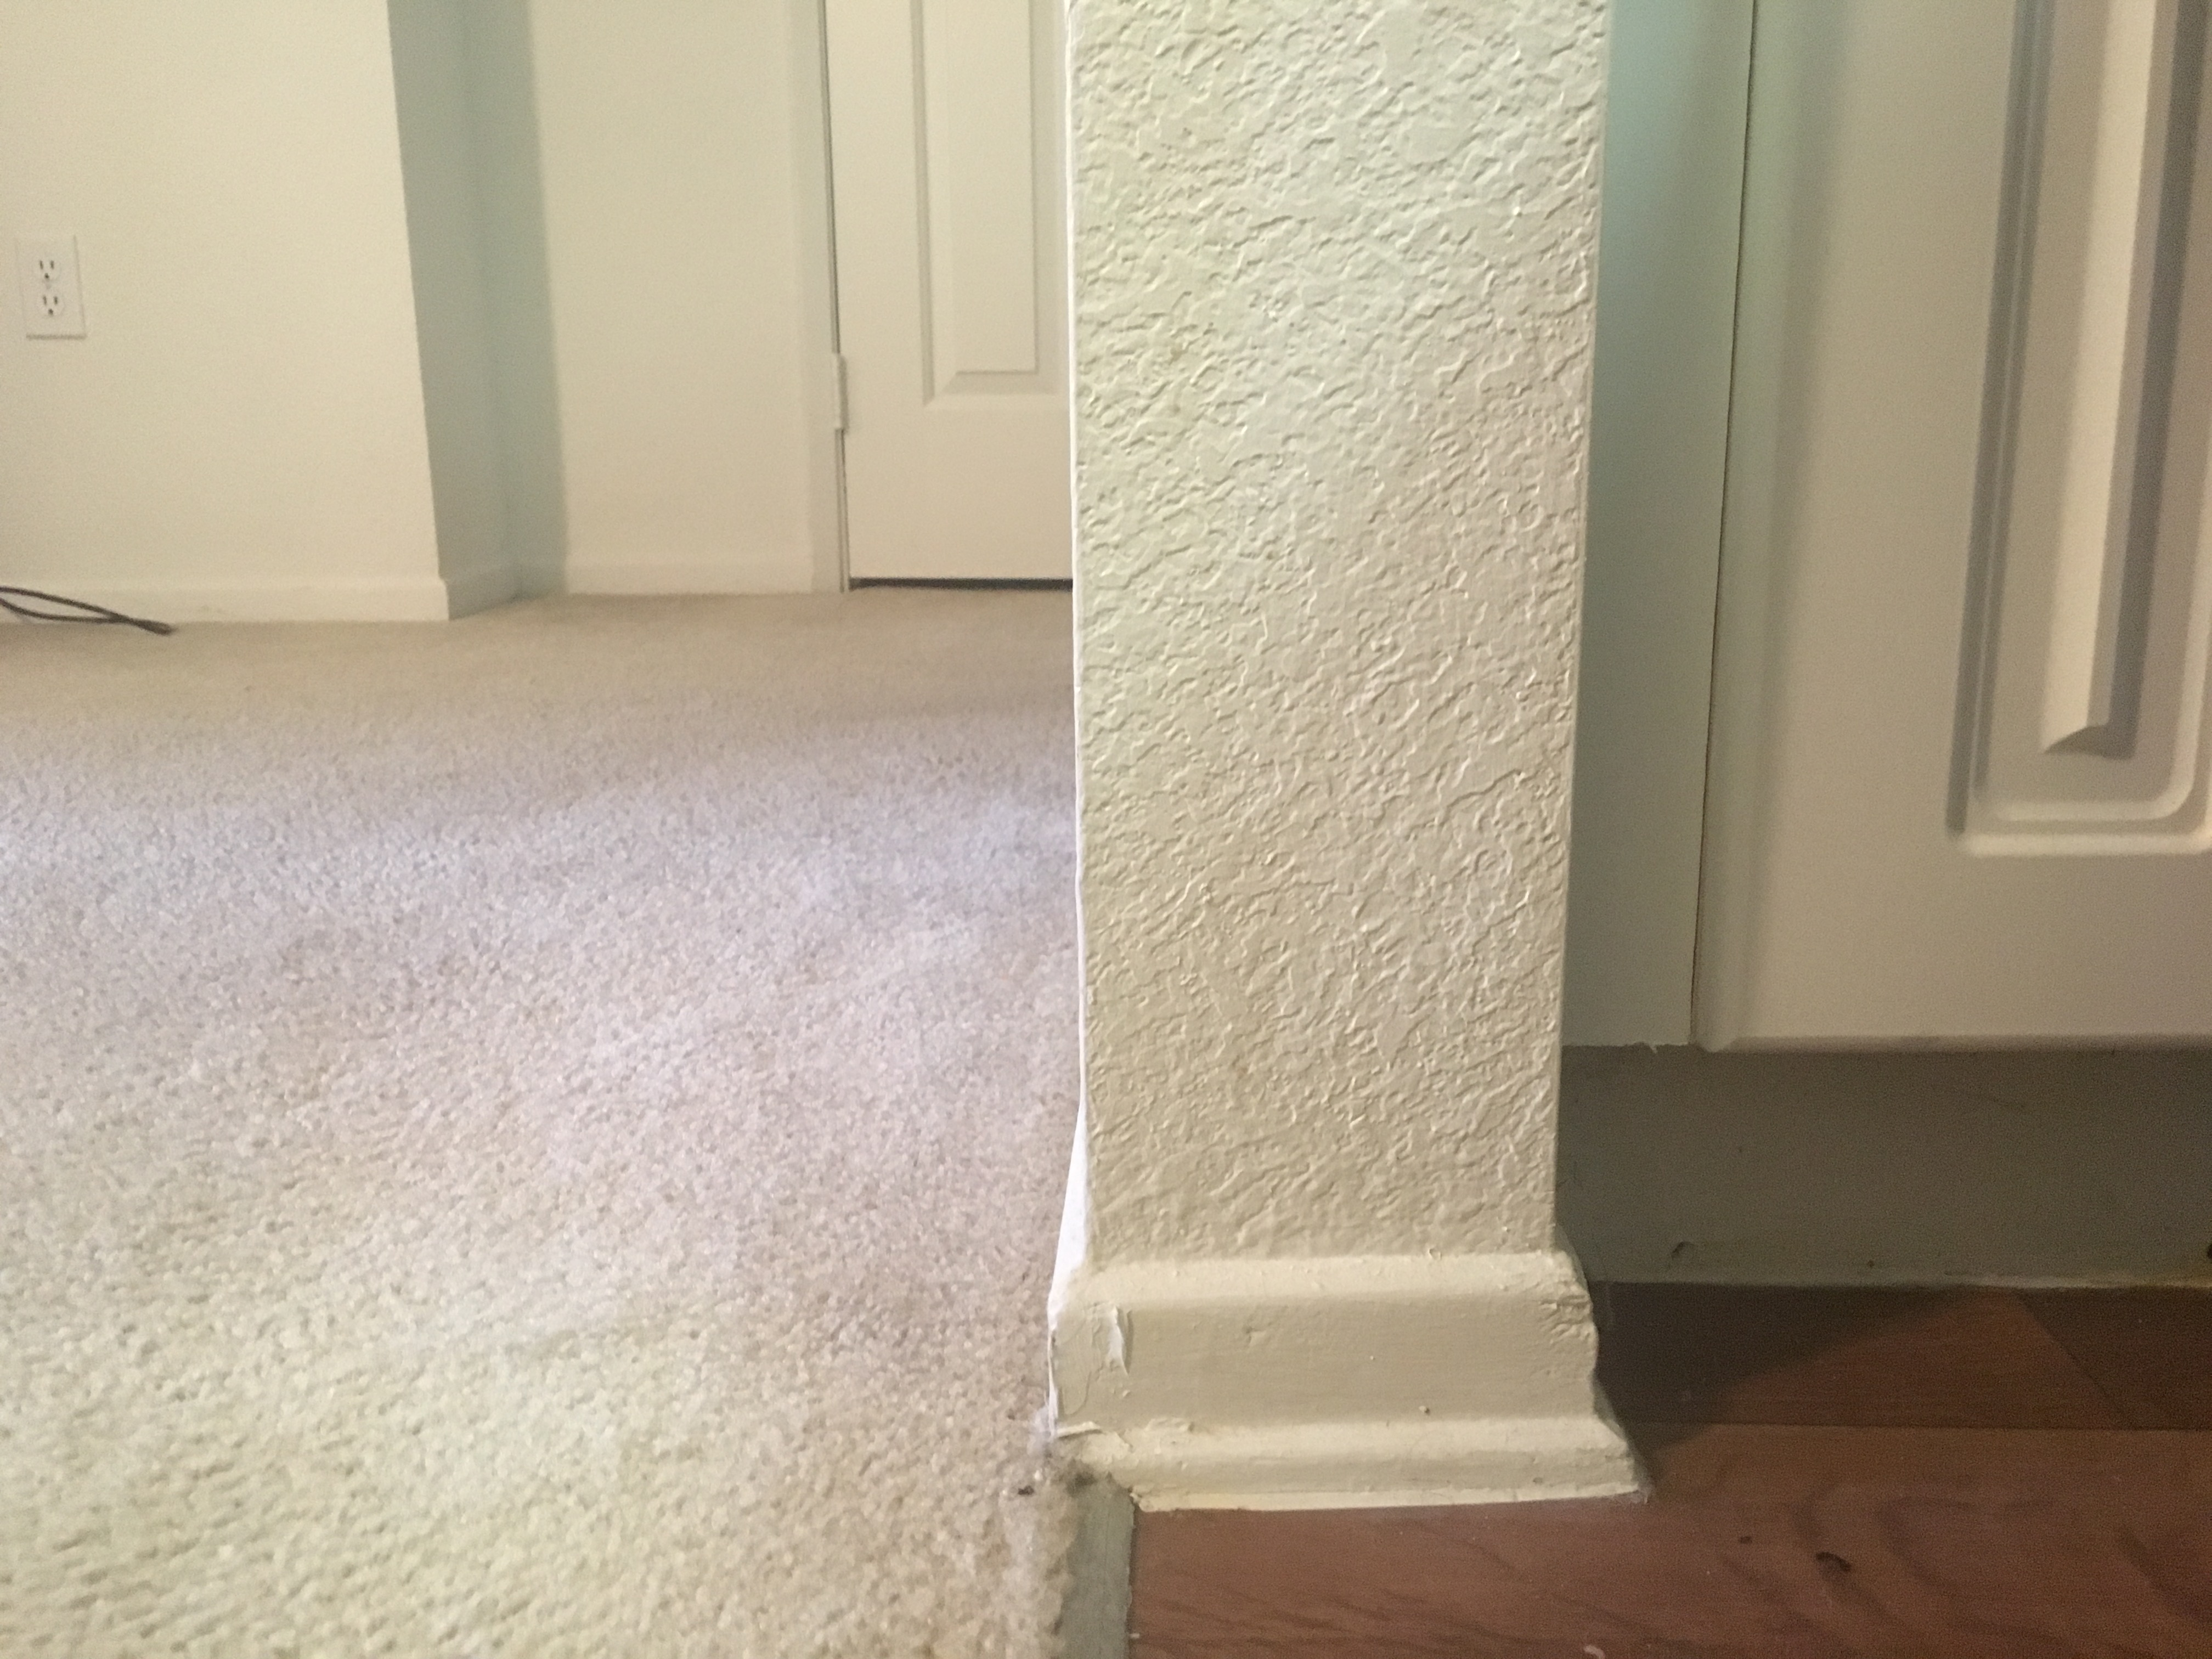Obstacle: (1059, 5, 1639, 1506)
